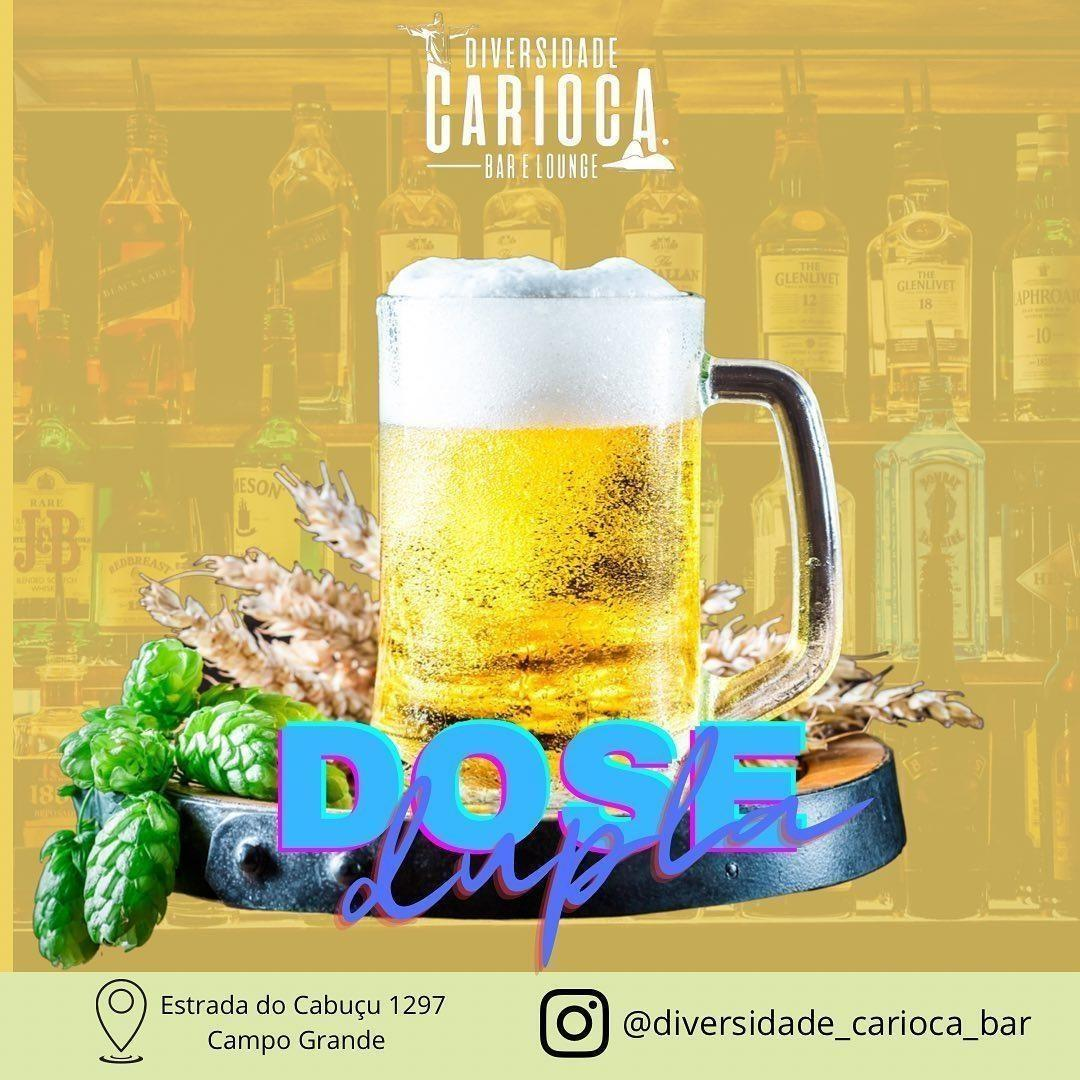glass-mug: (361, 248, 865, 783)
